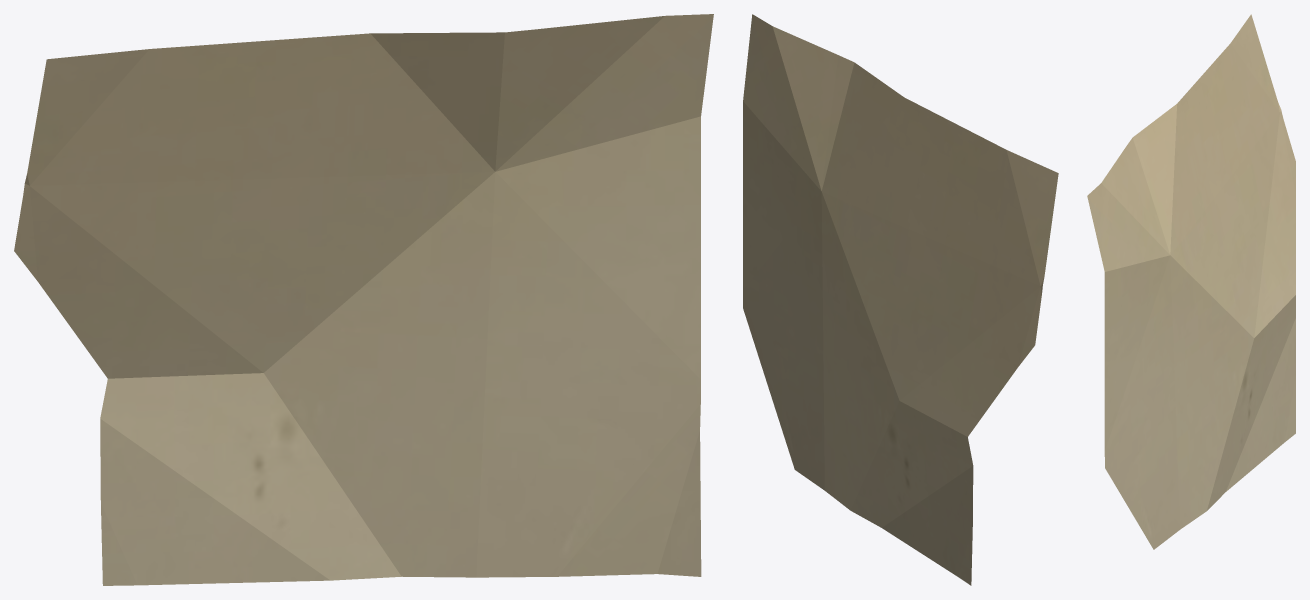
The picture shows the model from 3 angles, left to right: view 1: azimuth 30°, elevation 25°; view 2: azimuth 150°, elevation 25°; view 3: azimuth 270°, elevation 25°; orthographic projection. The views are drawn at different scales.
Size of the model in its own units: 0.8374 by 0.8374 by 0.406.
Materials: 3 (3 with a texture image).
